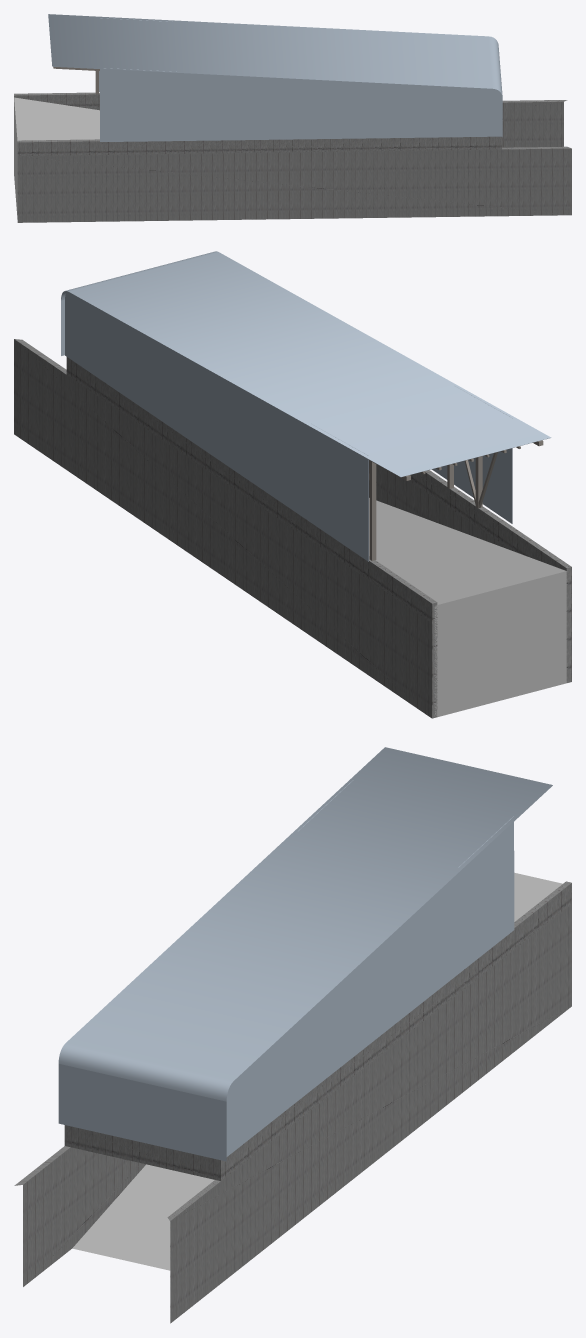
File: dixiarukou3.gltf
3 views of the same model, one above another, from view 1: azimuth 30°, elevation 25°; view 2: azimuth 150°, elevation 25°; view 3: azimuth 270°, elevation 25° (orthographic). The views are drawn at different scales.
Parts seen in each view (by area): view 1: Obj3d66-607053-174-175, Obj3d66-607053-176-064, Obj3d66-607053-172-132, Obj3d66-607053-173-249; view 2: Obj3d66-607053-174-175, Obj3d66-607053-176-064, Obj3d66-607053-173-249, Obj3d66-607053-172-132, Obj3d66-607053-175-464; view 3: Obj3d66-607053-174-175, Obj3d66-607053-176-064, Obj3d66-607053-172-132, Obj3d66-607053-173-249.
Part boxes in pixels (x1=…): Obj3d66-607053-174-175: x1=48, y1=14, x2=502, y2=141; Obj3d66-607053-176-064: x1=17, y1=100, x2=571, y2=222; Obj3d66-607053-172-132: x1=14, y1=92, x2=501, y2=155; Obj3d66-607053-173-249: x1=14, y1=97, x2=99, y2=219; Obj3d66-607053-174-175: x1=61, y1=251, x2=551, y2=561; Obj3d66-607053-176-064: x1=14, y1=339, x2=571, y2=718; Obj3d66-607053-173-249: x1=369, y1=498, x2=567, y2=717; Obj3d66-607053-172-132: x1=66, y1=357, x2=571, y2=623; Obj3d66-607053-175-464: x1=369, y1=440, x2=543, y2=560; Obj3d66-607053-174-175: x1=58, y1=747, x2=552, y2=1161; Obj3d66-607053-176-064: x1=14, y1=904, x2=571, y2=1323; Obj3d66-607053-172-132: x1=64, y1=881, x2=571, y2=1180; Obj3d66-607053-173-249: x1=72, y1=872, x2=562, y2=1270.
Size of the model in its own units: 125 by 40.17 by 83.81.
Materials: 5 (2 with a texture image).
